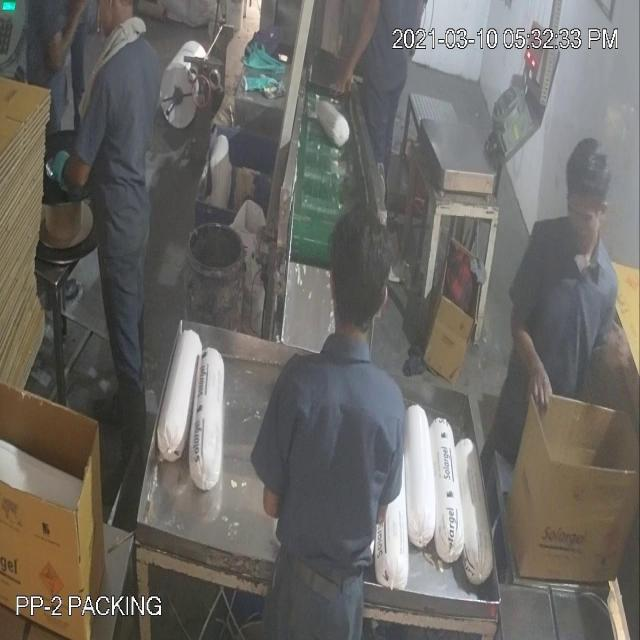No_Gloves: (52, 50, 530, 354)
